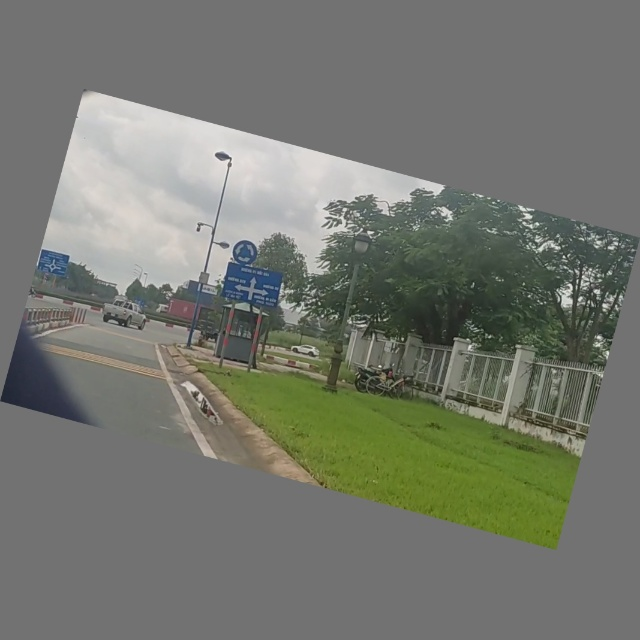R.303: (229, 237, 260, 269)
